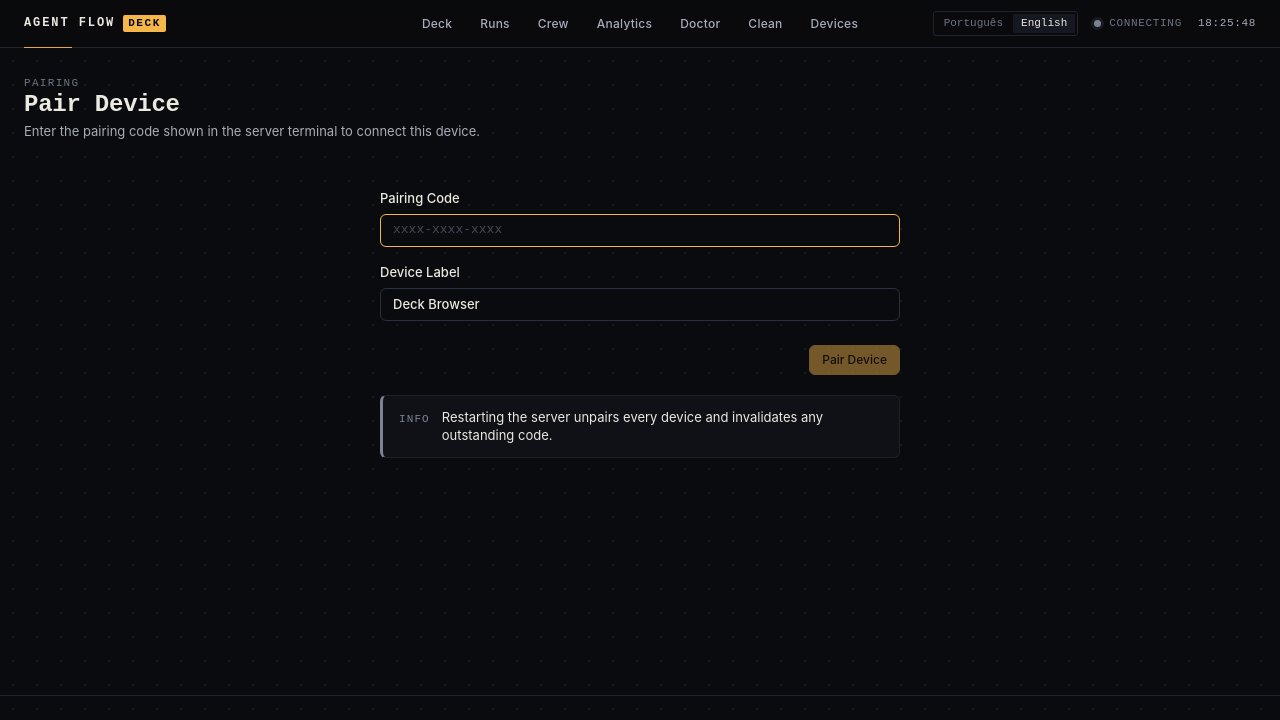
it: App 401 and pairing flow (FR-021) › renders pairing screen on 401, issues no further read of failed key, and resumes on successful pair
Expected: the heading "Pair Device" is shown, [24,91,180,118]
In the field with placeholder "xxxx-xxxx-xxxx": (640, 230) [380,214,900,247], type "1234-5678-9012"
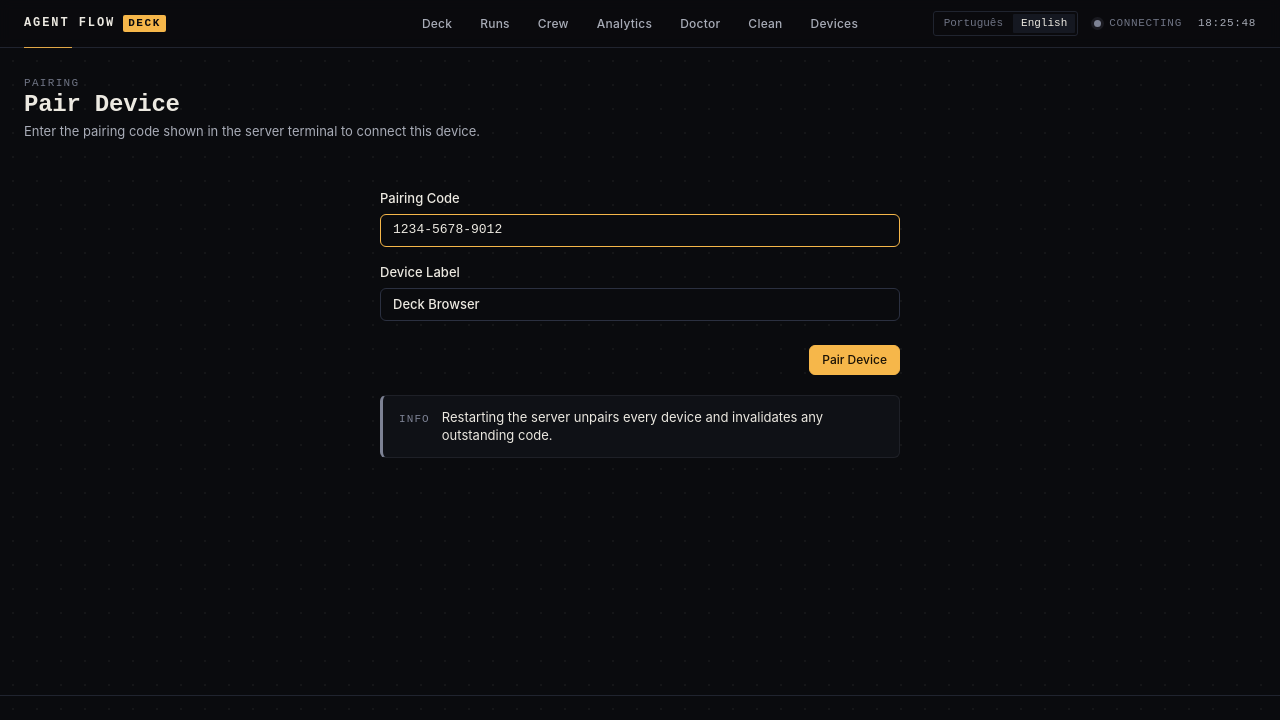
Click the button "Pair Device": (855, 360) [809,344,900,374]
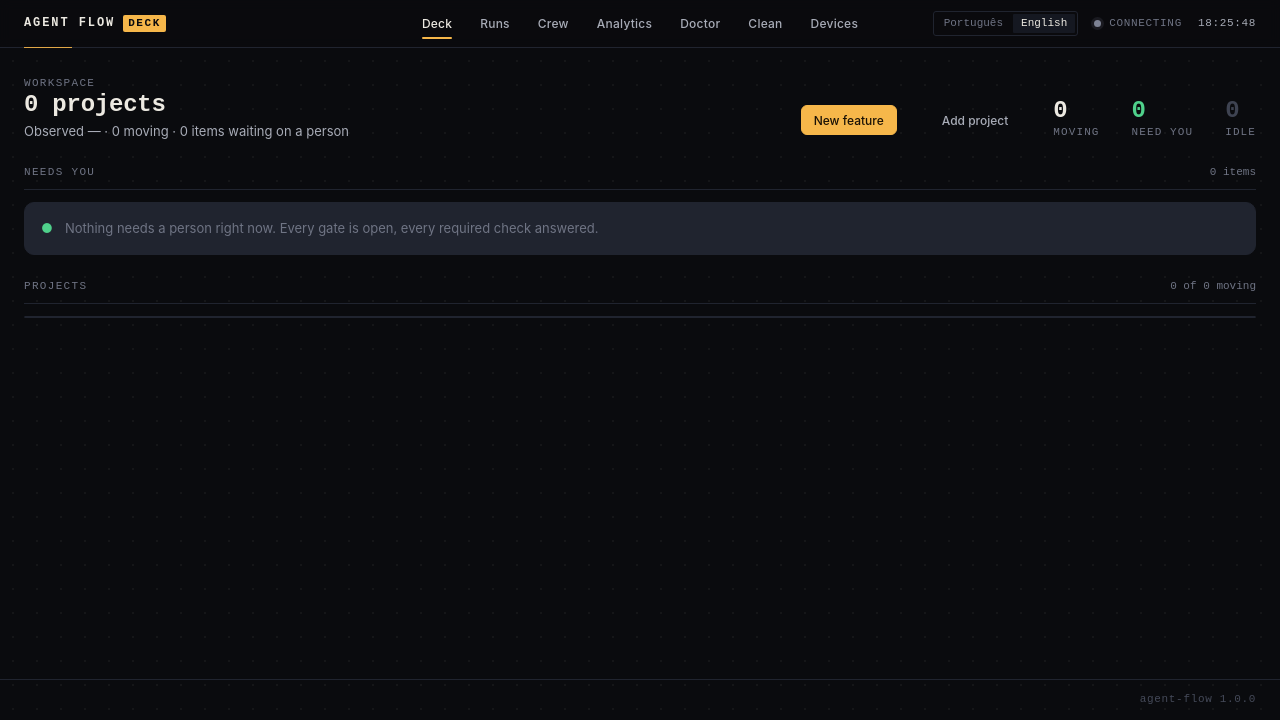
Expected: the heading "Pair Device" is gone
